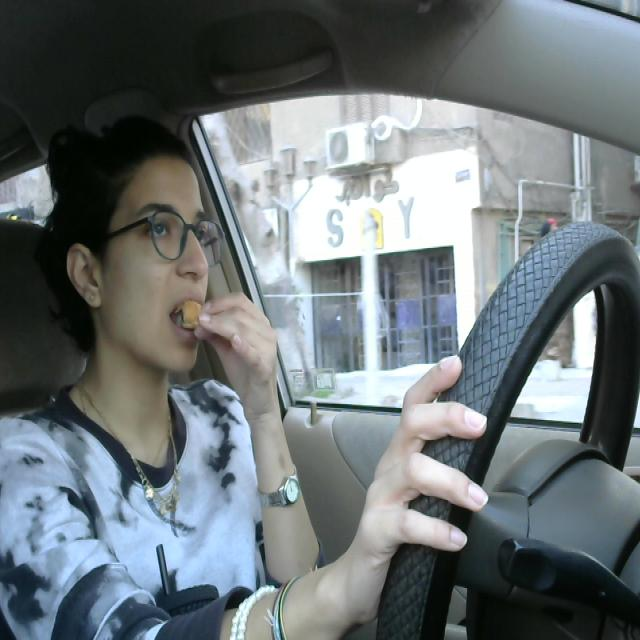eating: (178, 294, 218, 342)
